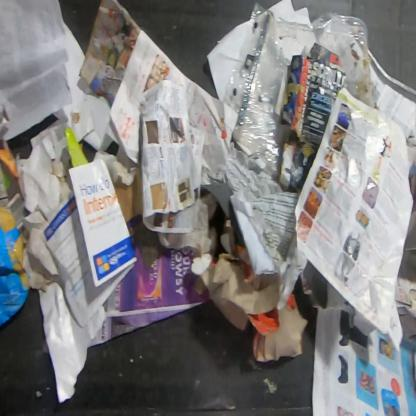cardboard: (190, 219, 310, 363), (275, 41, 347, 196), (52, 19, 121, 152), (113, 168, 142, 223)
soft_plastic: (222, 0, 376, 178), (0, 205, 31, 329)
